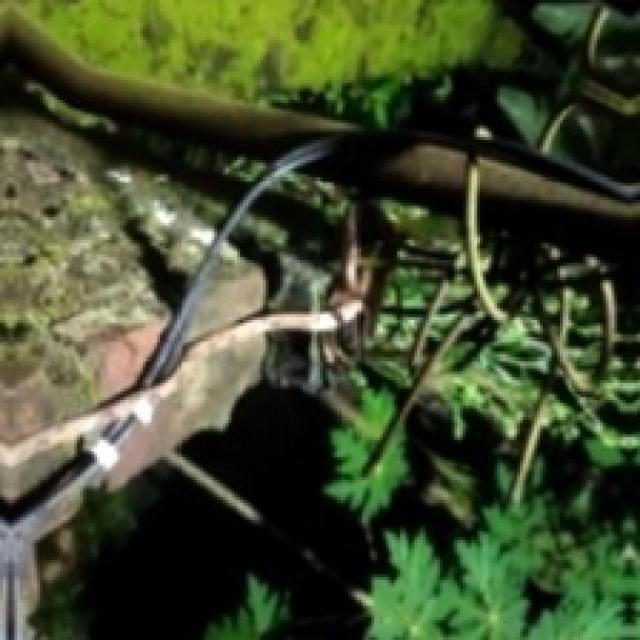dog-toothed cat snake: (0, 303, 362, 467)
